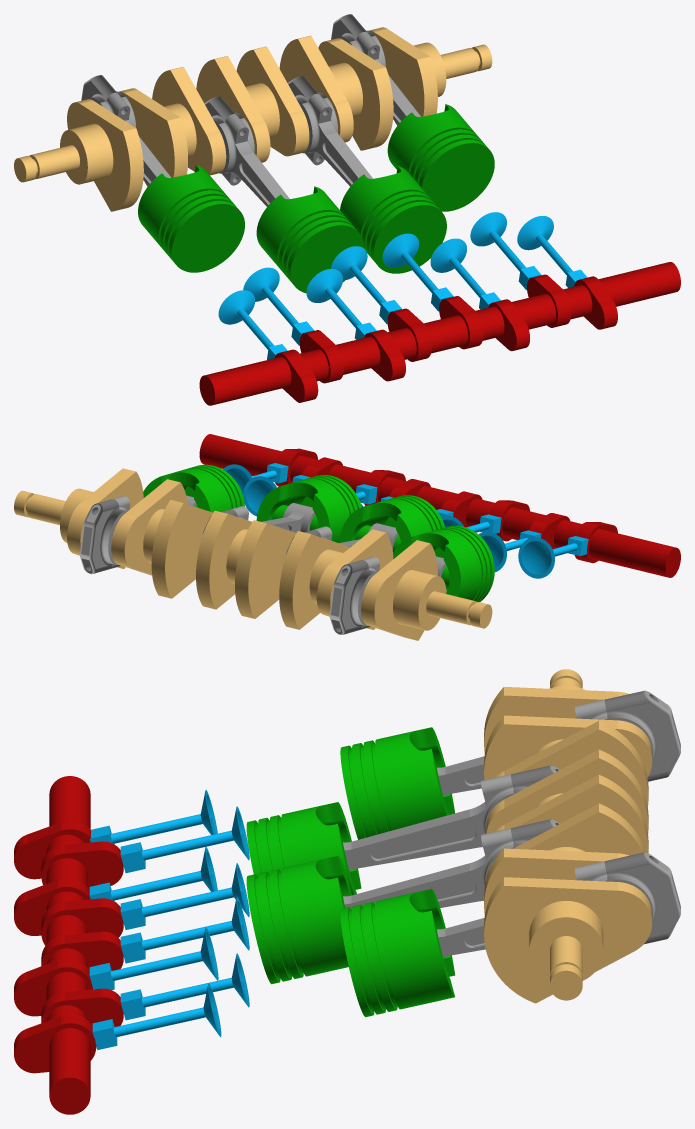
File: Moteur_line.glb
The picture shows the model from 3 angles, top to bottom: view 1: azimuth 30°, elevation 25°; view 2: azimuth 150°, elevation 25°; view 3: azimuth 270°, elevation 25°; orthographic projection. The views are drawn at different scales.
Visible parts, largest first — view 1: Shape (×47); view 2: Shape (×56); view 3: Shape (×65).
Part boxes in pixels (x1=…): Shape (×47): x1=35, y1=30, x2=680, y2=405; Shape (×56): x1=27, y1=434, x2=680, y2=640; Shape (×65): x1=14, y1=687, x2=677, y2=1114.
Bounding box in the file's own units: 0.694 × 0.2205 × 0.6488.
